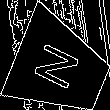N_SE: (32, 39, 88, 97)
